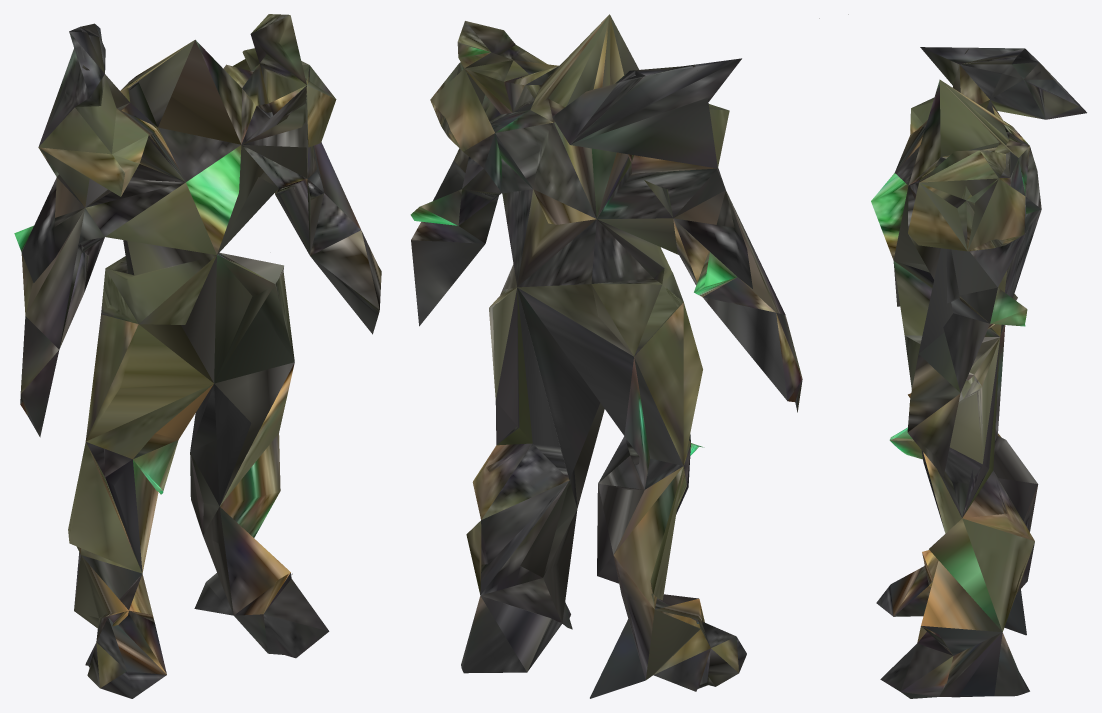
The model's file is emerald_sentinel_lod2.glb.
3 renders of one model, left to right at view 1: azimuth 30°, elevation 25°; view 2: azimuth 150°, elevation 25°; view 3: azimuth 270°, elevation 25°, orthographic. The views are drawn at different scales.
Parts seen in each view (by area): view 1: Mesh_0; view 2: Mesh_0; view 3: Mesh_0.
Part boxes in pixels (x1,y1,x2,y2): Mesh_0: (14, 14, 381, 698); Mesh_0: (410, 14, 819, 698); Mesh_0: (848, 14, 1086, 698).
Bounding box in the file's own units: 1.14 × 1.85 × 0.7009.
Materials: 1 (1 with a texture image).
